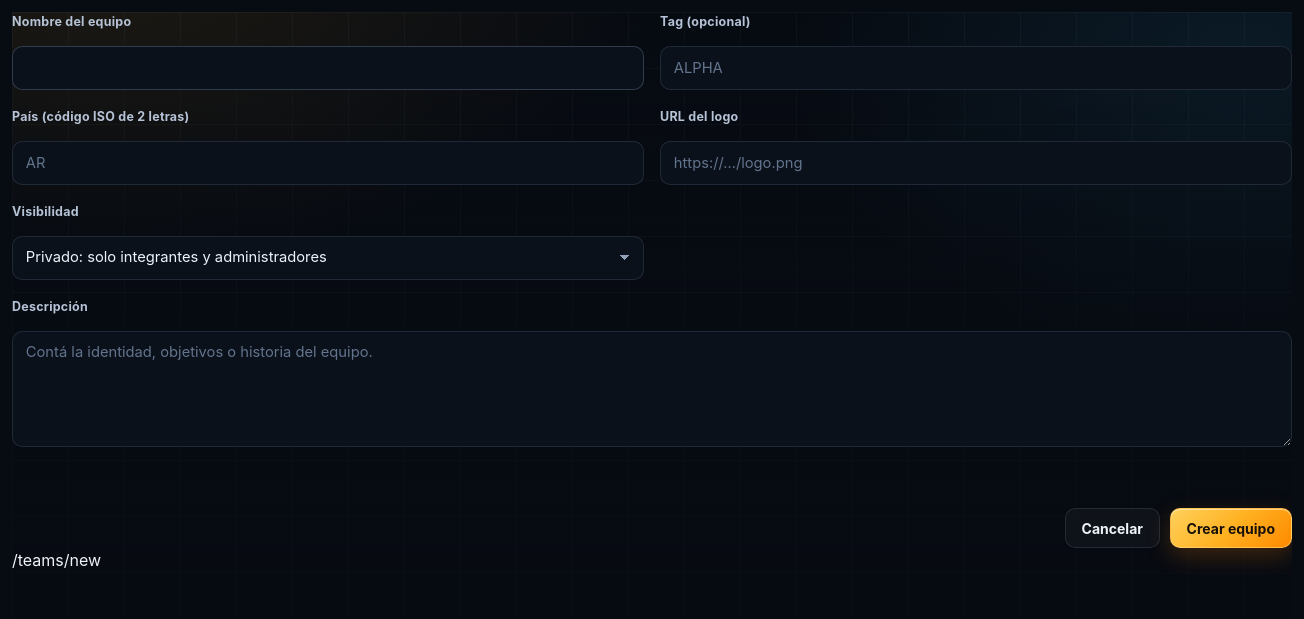
it: TeamForm › blocks invalid submissions
Type "!" into the field labelled "Tag (opcional)" at (976, 68), box [660,46,1292,90]
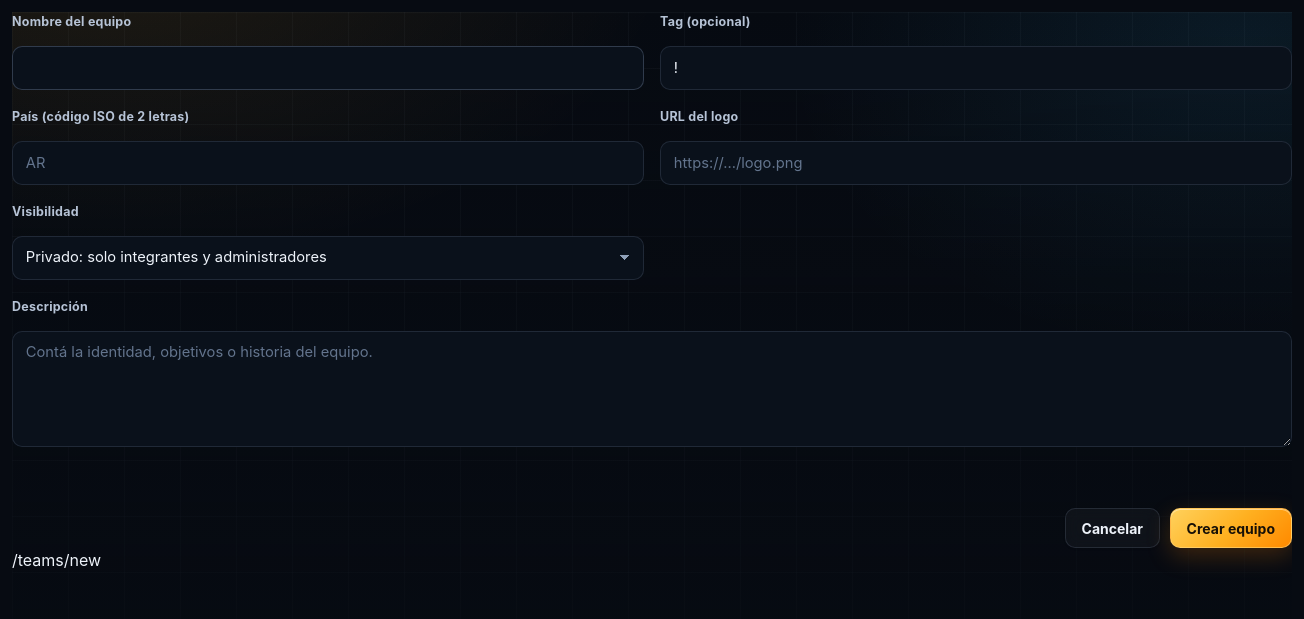
Click the button "Crear equipo" at (1231, 528), box [1170,508,1292,548]
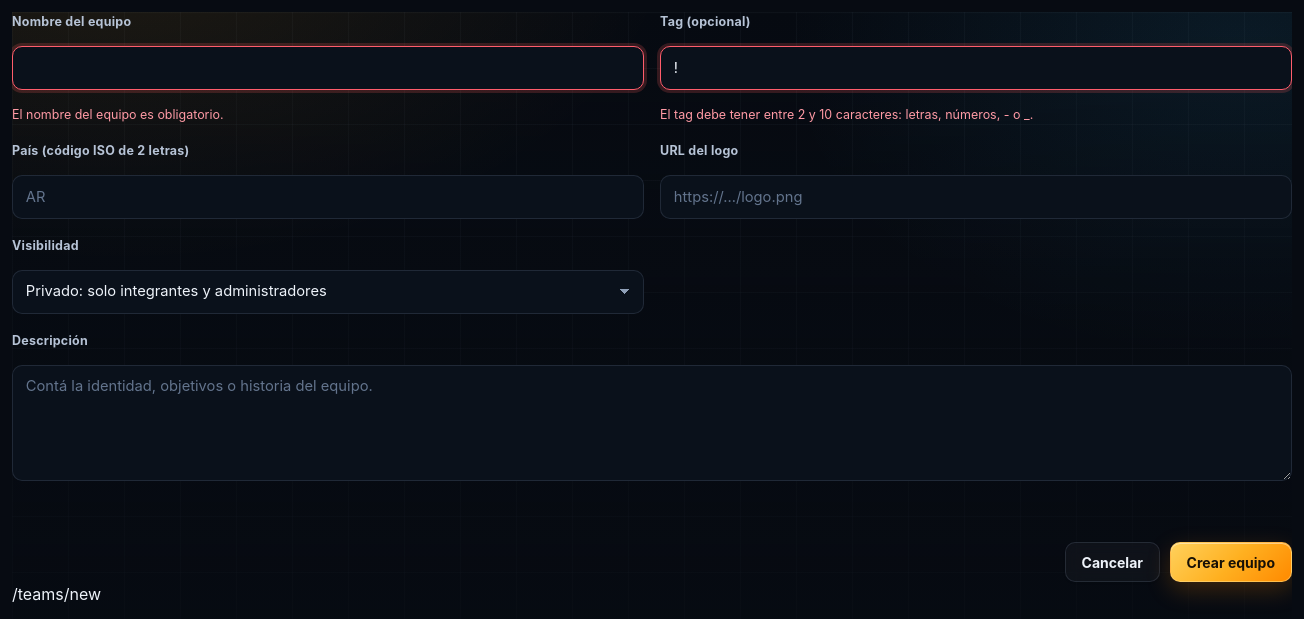
Now the text "El nombre del equipo es obligatorio." is shown, box [12,107,224,122]
Now the text "El tag debe tener" is shown, box [660,107,1033,122]
